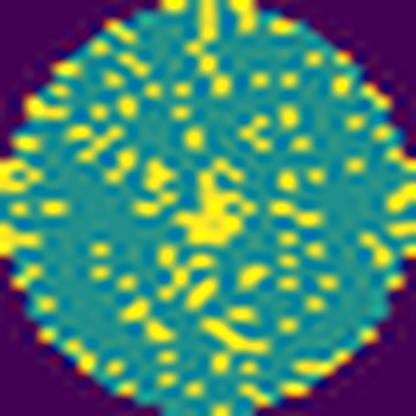Center: (172, 167, 259, 253)
